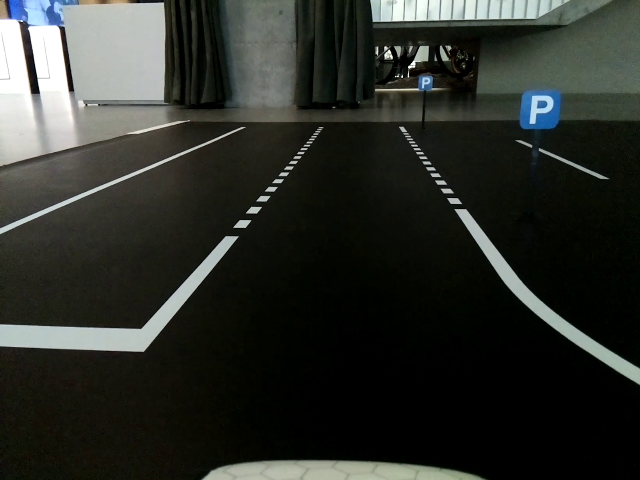park: (519, 93, 557, 128), (419, 76, 433, 89)
